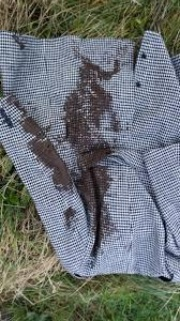earth: (59, 61, 120, 142), (77, 147, 116, 243), (33, 131, 50, 160), (54, 162, 71, 188)
